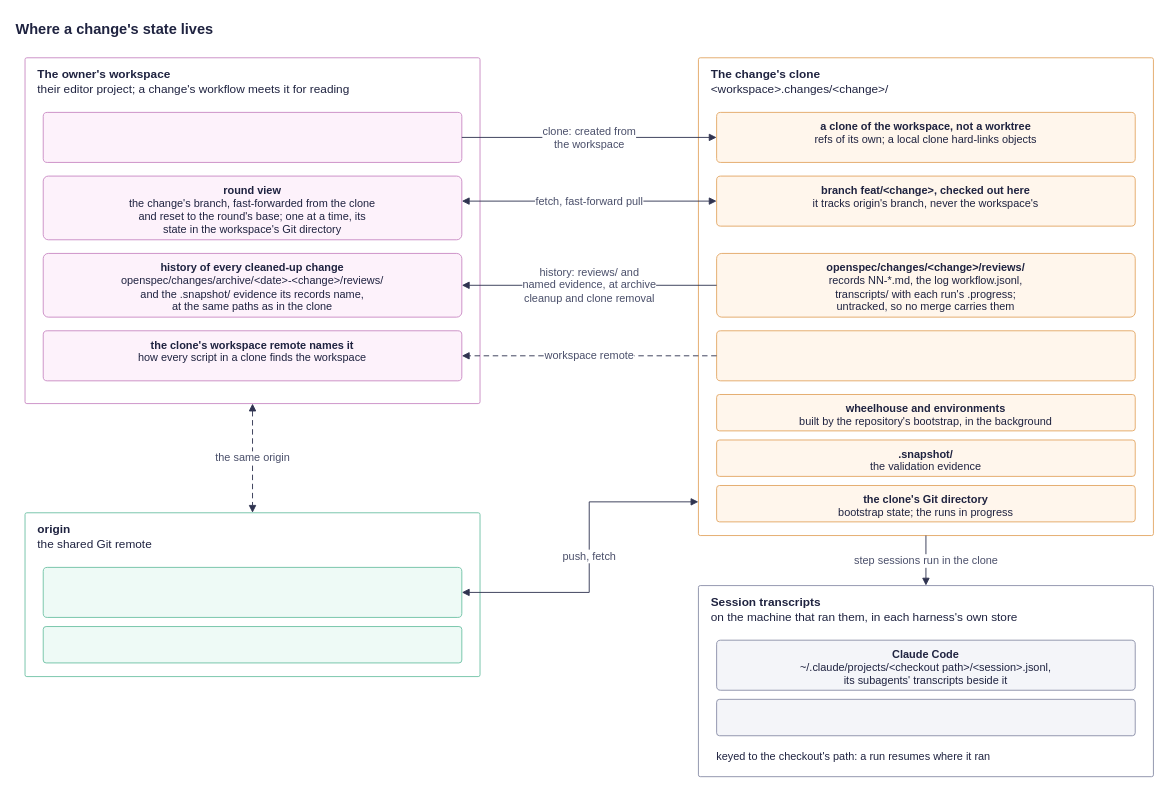
This 1169x793 diagram has some shape labels left out. The centre of each missing label's shape, as x and y in pixels:
Codex its own session store, where a review resumes: [925,717]
feat/<change>, pushed exactly HEAD, never forced; validation and CI run it: [252,591]
remotes origin, the workspace's origin URL; workspace: [925,355]
the branch a change lands on where a new change's branch starts by default: [252,644]
the owner's checkout their own branch and edits: [252,136]
